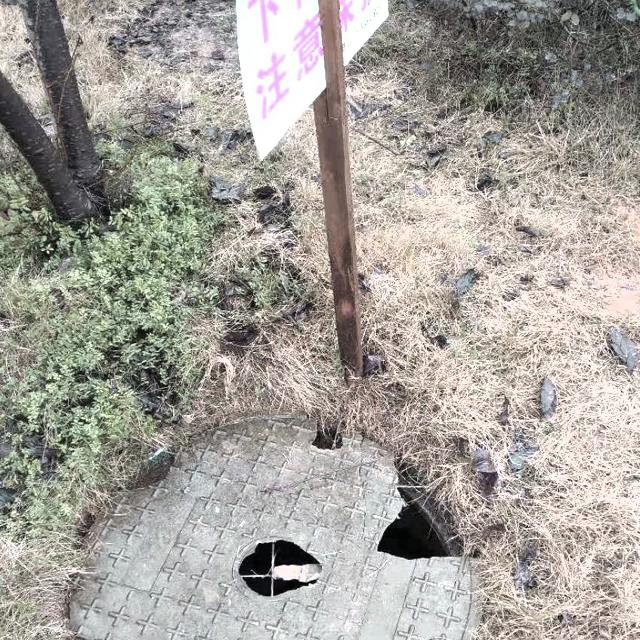broke: (63, 409, 481, 640)
